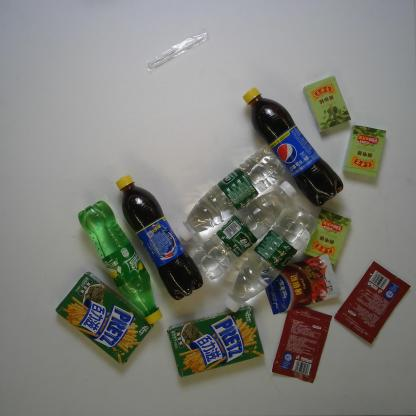Candy: (339, 123, 393, 182), (300, 75, 352, 135), (305, 204, 353, 267)
Dessert: (54, 269, 156, 367), (164, 305, 267, 380)
Drink: (240, 86, 347, 209), (172, 143, 291, 244), (114, 172, 206, 302), (74, 198, 166, 327), (188, 179, 300, 284), (216, 203, 318, 318)
Seasoner: (334, 257, 413, 346), (269, 302, 334, 385), (264, 253, 343, 317)
